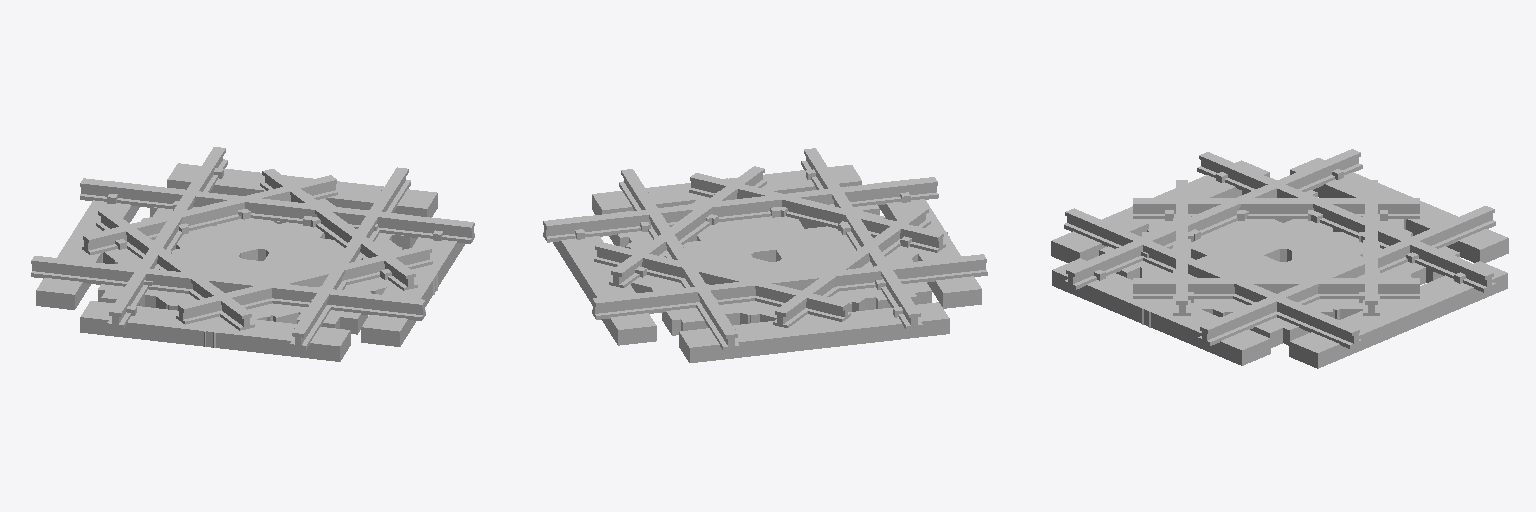
File: track_diagonal_fourways_crossing.obj
The picture shows the model from 3 angles: view 1: azimuth 30°, elevation 25°; view 2: azimuth 150°, elevation 25°; view 3: azimuth 270°, elevation 25°; orthographic projection.
Visible parts, largest first — view 1: track_normal.001, track_normal.002, track_normal, track_normal.003; view 2: track_normal.002, track_normal.001, track_normal, track_normal.003; view 3: track_normal.001, track_normal.002, track_normal.003, track_normal.
Part boxes in pixels (left/top/right/bottom): track_normal.001: left=31, top=178, right=474, bottom=346; track_normal.002: left=80, top=147, right=437, bottom=361; track_normal: left=81, top=175, right=434, bottom=347; track_normal.003: left=77, top=169, right=437, bottom=346; track_normal.002: left=543, top=177, right=987, bottom=345; track_normal.001: left=592, top=148, right=949, bottom=362; track_normal: left=594, top=173, right=947, bottom=329; track_normal.003: left=590, top=166, right=949, bottom=328; track_normal.001: left=1052, top=149, right=1508, bottom=365; track_normal.002: left=1051, top=152, right=1507, bottom=368; track_normal.003: left=1133, top=198, right=1419, bottom=327; track_normal: left=1142, top=180, right=1410, bottom=324.
Bounding box in the file's own units: 1.62 × 0.1158 × 1.6.